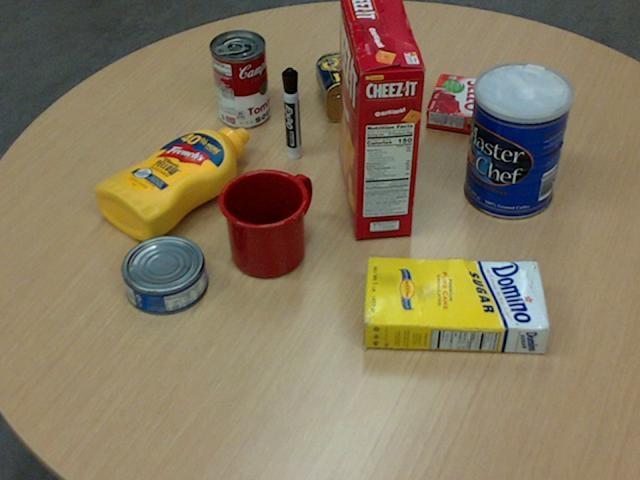cracker_box: (336, 0, 423, 237)
gelatin_box: (424, 72, 494, 134)
large_marker: (281, 67, 299, 159)
master_chef_can: (463, 63, 571, 220)
mug: (216, 168, 310, 277)
mustard_bottle: (93, 127, 248, 240)
potted_meat_can: (315, 46, 404, 121)
sugar_box: (362, 258, 550, 353)
tomato_soup_can: (209, 28, 269, 126)
tuna_fish_can: (120, 235, 206, 314)
